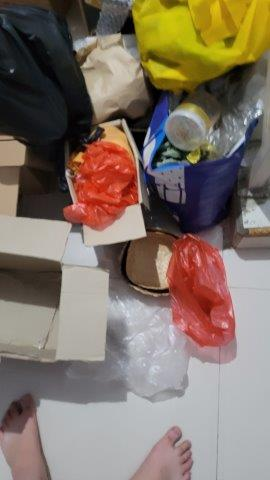plastik: (67, 297, 189, 394), (161, 235, 242, 353), (54, 137, 142, 228)
